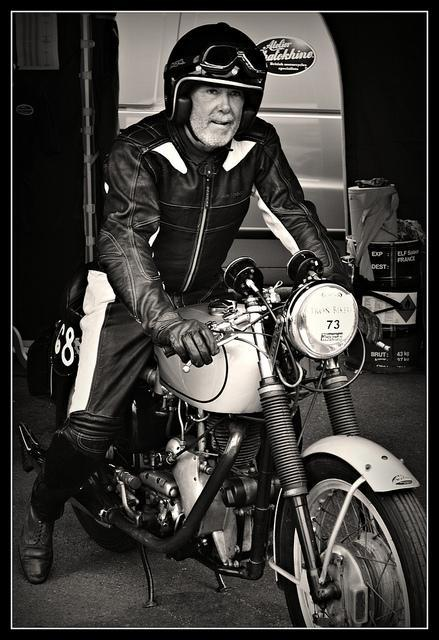motorcycle: (72, 255, 439, 632)
